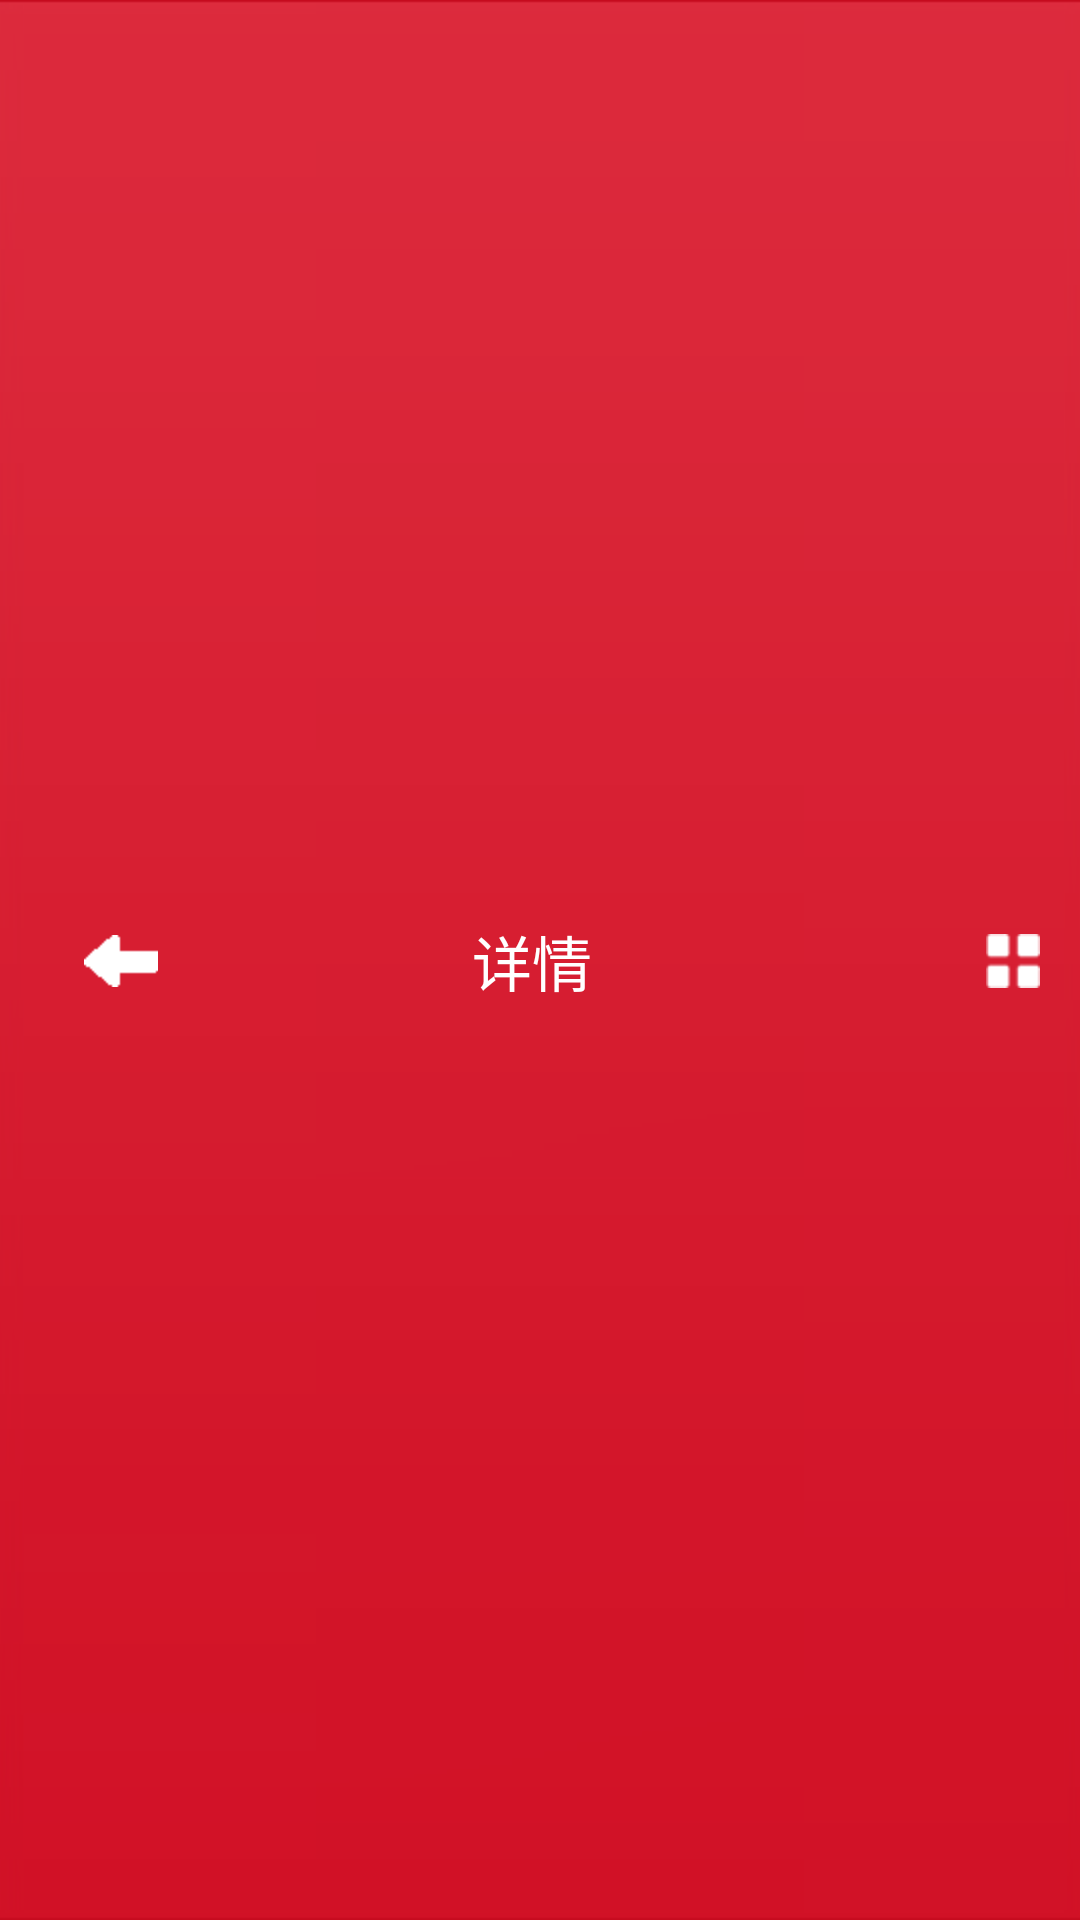

Icon click points for this 1080 × 1920 phone screenshot, format point (x, y):
back: point (121, 961)
cate: point (1013, 961)
